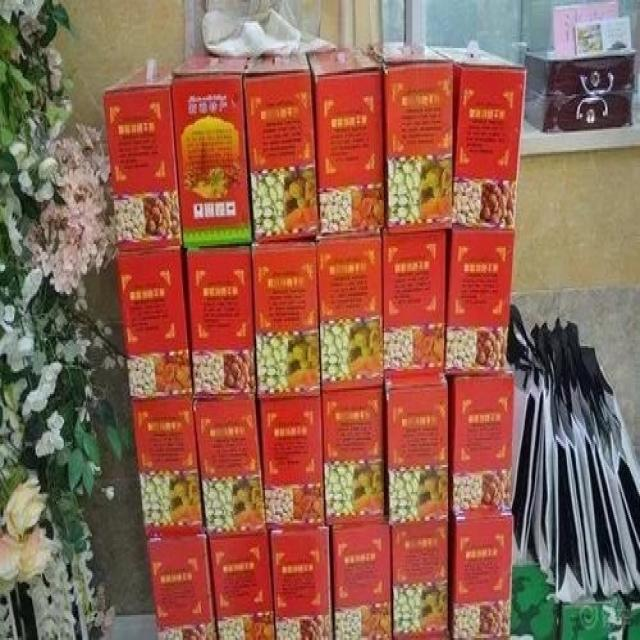box: (424, 44, 526, 231), (362, 44, 454, 233), (170, 56, 253, 248), (104, 62, 183, 252), (306, 46, 385, 236), (244, 54, 319, 240), (115, 246, 193, 400), (251, 236, 321, 400), (443, 361, 515, 519), (317, 233, 384, 396), (186, 244, 256, 398), (131, 396, 205, 540), (443, 231, 515, 375), (193, 396, 266, 538), (381, 229, 445, 388), (383, 375, 449, 525), (260, 394, 326, 534), (321, 390, 384, 529), (449, 513, 513, 640), (326, 521, 393, 640), (390, 519, 451, 640), (269, 527, 334, 640), (145, 540, 218, 640), (209, 534, 275, 640), (511, 567, 559, 640), (559, 594, 626, 640), (625, 605, 640, 640)
